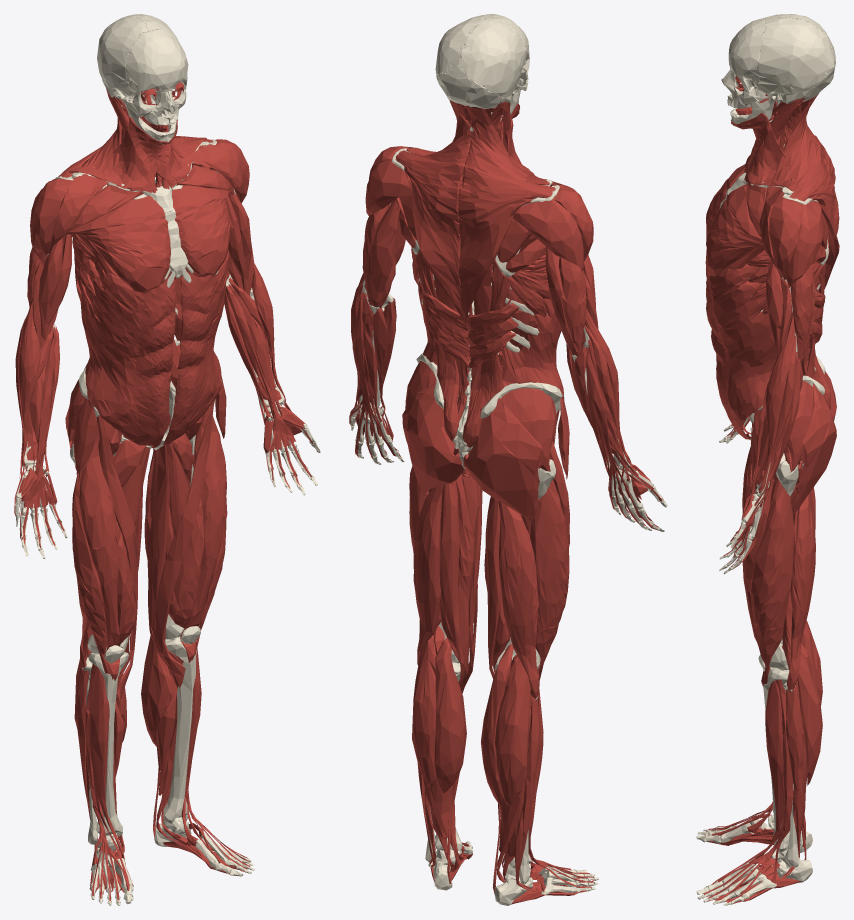
The model's file is muscles.glb.
3 views of the same model, side by side, from view 1: azimuth 30°, elevation 25°; view 2: azimuth 150°, elevation 25°; view 3: azimuth 270°, elevation 25° (orthographic). The views are drawn at different scales.
Parts seen in each view (by area): view 1: muscles, skeleton; view 2: muscles, skeleton; view 3: muscles, skeleton.
Part boxes in pixels (box(x1,y1,x2,y2)): muscles: box(14, 81, 312, 900); skeleton: box(15, 14, 320, 905); muscles: box(349, 100, 662, 904); skeleton: box(350, 14, 667, 905); muscles: box(704, 76, 839, 903); skeleton: box(696, 14, 835, 905).
Size of the model in its own units: 0.6478 by 1.71 by 0.2609.
